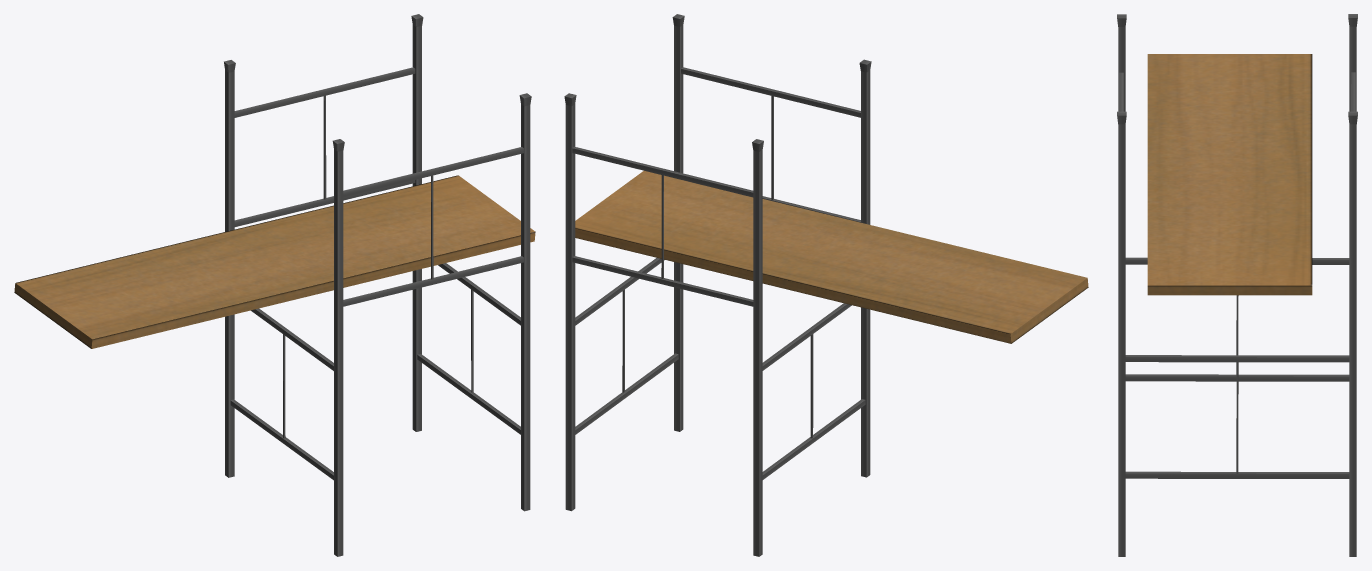
The model's file is andaime.fbx.
3 renders of one model, left to right at view 1: azimuth 30°, elevation 25°; view 2: azimuth 150°, elevation 25°; view 3: azimuth 270°, elevation 25°, orthographic. The views are drawn at different scales.
Parts seen in each view (by area): view 1: Cube.011, Cube; view 2: Cube.011, Cube; view 3: Cube.011, Cube.
Boxes of the visible parts, x1,y1,x2,y2 form: Cube.011: [14, 175, 535, 348]; Cube: [224, 14, 531, 556]; Cube.011: [575, 170, 1088, 343]; Cube: [564, 14, 871, 556]; Cube.011: [1147, 54, 1312, 295]; Cube: [1117, 14, 1357, 556].
Bounding box in the file's own units: 344 × 306 × 151.
